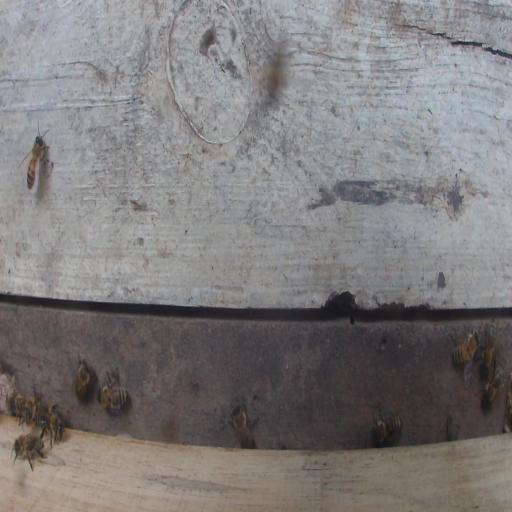bee: (97, 366, 129, 420), (10, 431, 45, 471), (37, 411, 65, 448), (231, 404, 253, 450), (26, 135, 44, 189), (482, 364, 504, 408), (452, 330, 480, 364), (74, 357, 93, 402), (373, 416, 401, 446), (482, 318, 497, 373), (24, 397, 48, 424), (10, 397, 26, 416)
